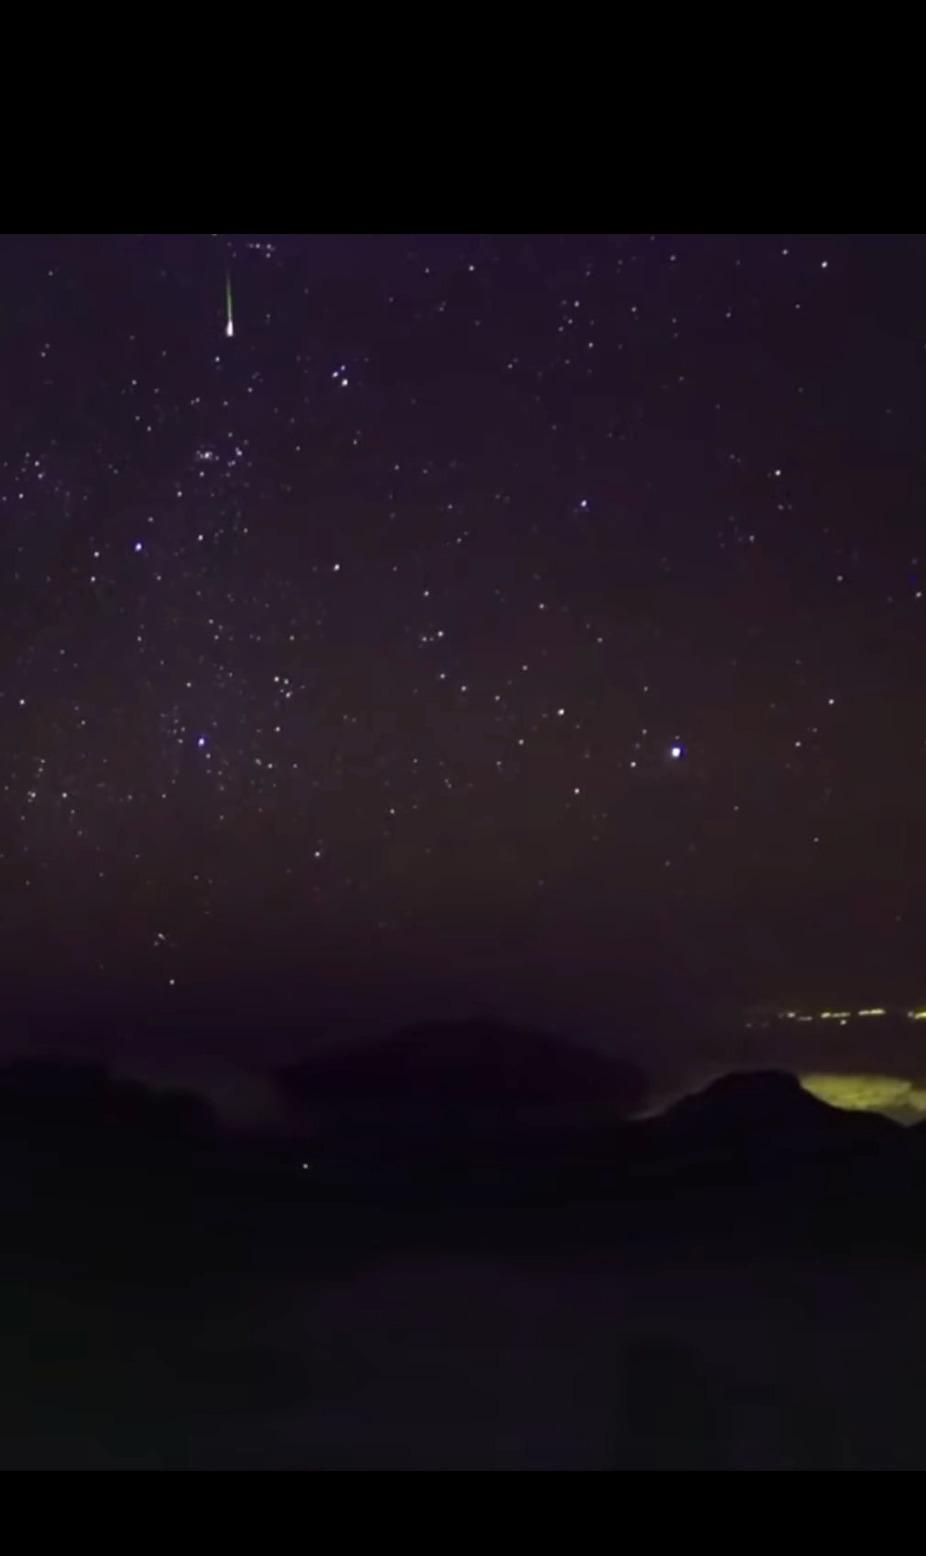meteorite: (209, 253, 249, 345)
